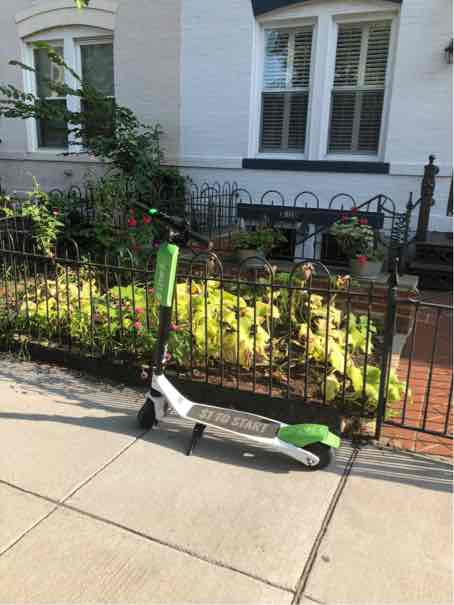scooter: (120, 192, 340, 466)
